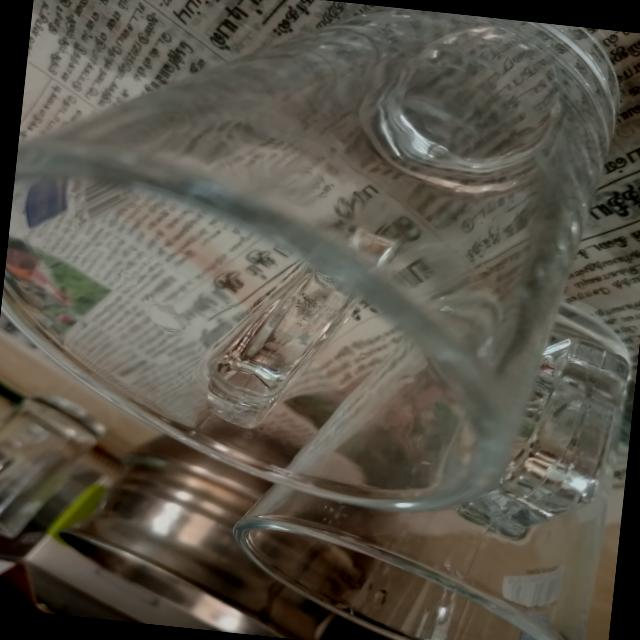glass-VX4N: (0, 0, 629, 527), (230, 268, 640, 640)
